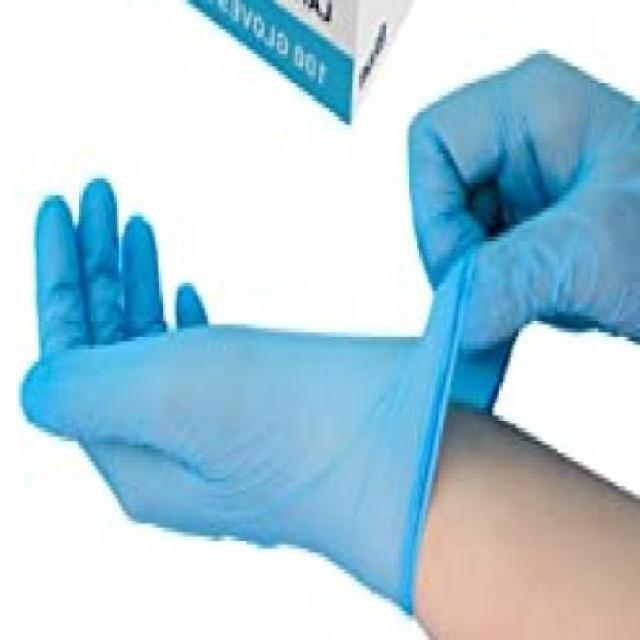glove: (10, 182, 468, 602), (389, 55, 640, 439)
